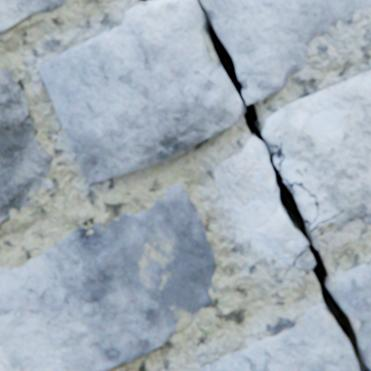brick: (0, 183, 216, 370), (0, 68, 55, 224), (0, 0, 68, 34)
broken_brick: (40, 0, 370, 183), (263, 70, 370, 248), (215, 136, 314, 269), (199, 302, 359, 370), (332, 262, 370, 368), (273, 153, 282, 169)
crack: (199, 2, 370, 370), (292, 247, 305, 264), (140, 0, 158, 3)
